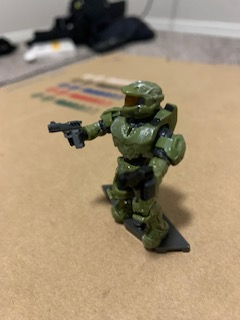chief: (67, 80, 189, 250)
pistol: (112, 166, 158, 203), (44, 118, 89, 154)
spartan: (65, 78, 187, 248)
